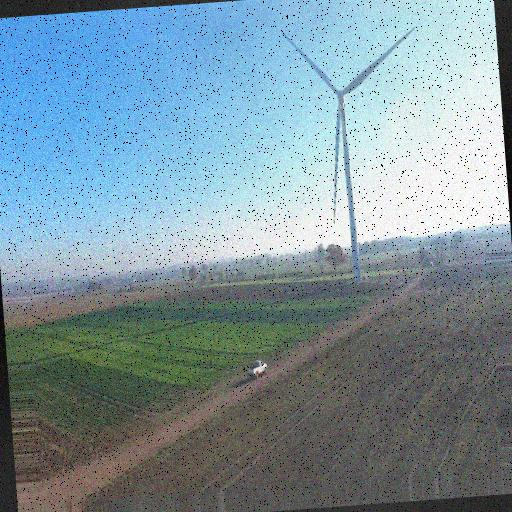wind turbine: (278, 22, 418, 281)
